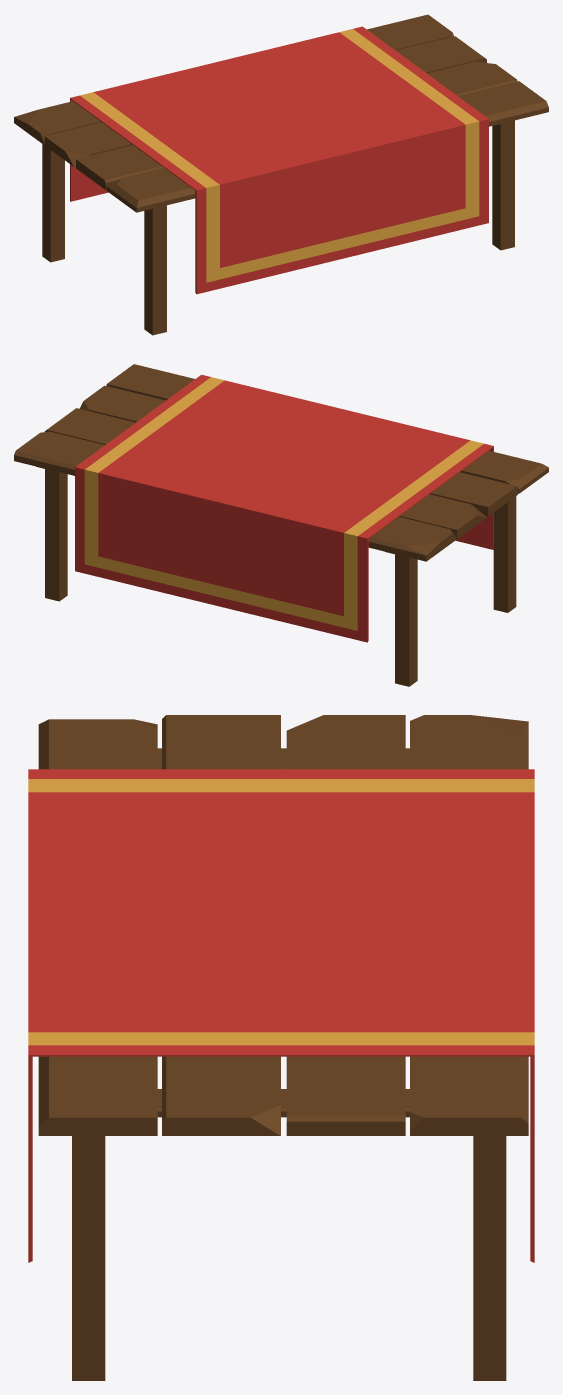
Rendered from Table_2.fbx.
3 views of the same model, one above another, from view 1: azimuth 30°, elevation 25°; view 2: azimuth 150°, elevation 25°; view 3: azimuth 270°, elevation 25° (orthographic). The views are drawn at different scales.
Parts seen in each view (by area): view 1: table_2; view 2: table_2; view 3: table_2.
Part boxes in pixels (box(x1,y1,x2,y2)): table_2: box(14, 14, 548, 335); table_2: box(14, 364, 548, 686); table_2: box(28, 715, 534, 1380).
Bounding box in the file's own units: 142 × 47.75 × 75.54.
